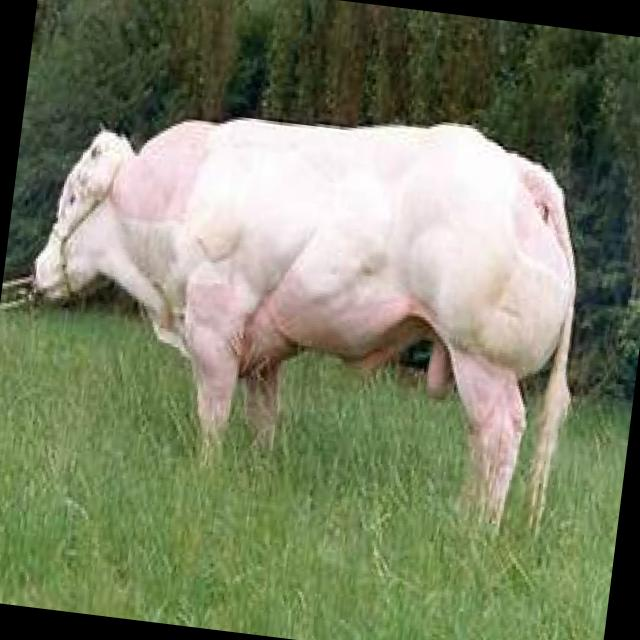cow: (6, 76, 595, 547)
